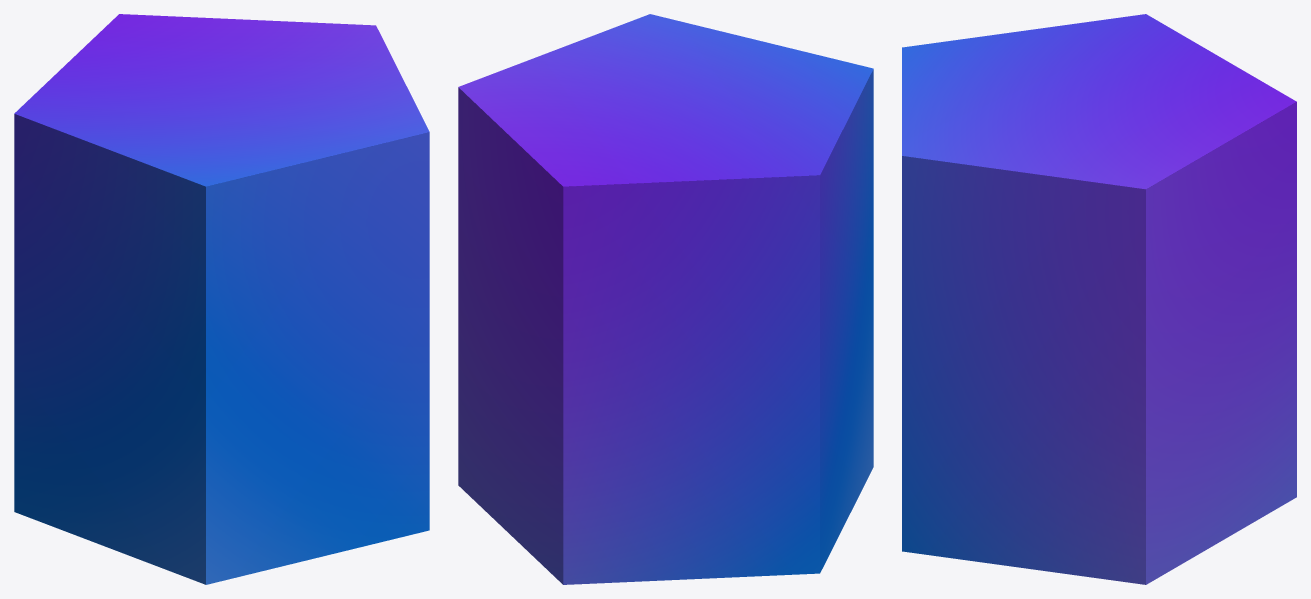
The model's file is Prizma.fbx.
3 renders of one model, left to right at view 1: azimuth 30°, elevation 25°; view 2: azimuth 150°, elevation 25°; view 3: azimuth 270°, elevation 25°, orthographic.
Parts seen in each view (by area): view 1: Cylinder; view 2: Cylinder; view 3: Cylinder.
Boxes of the visible parts, left/top/right/bottom form: Cylinder: left=14, top=14, right=429, bottom=584; Cylinder: left=458, top=14, right=873, bottom=584; Cylinder: left=902, top=14, right=1296, bottom=584.
Bounding box in the file's own units: 2.42 × 2.54 × 2.3.
1 material, 1 textured.
